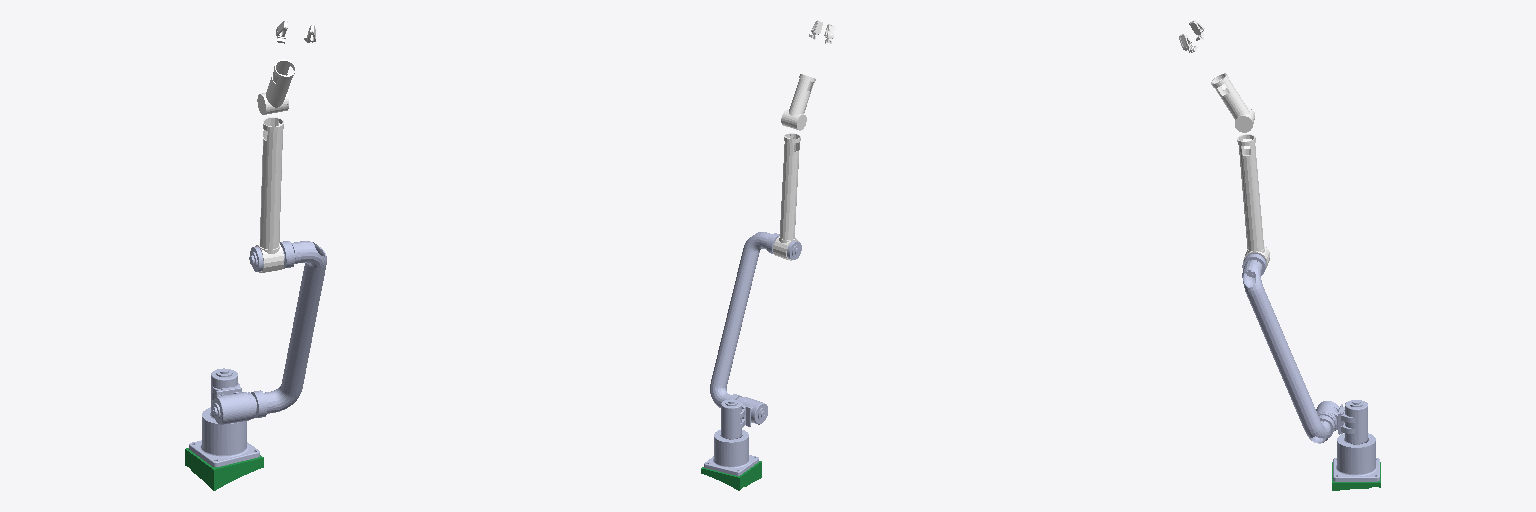
robot.urdf — satellite_5__starlink_sldasm9:
<?xml version='1.0' encoding='utf-8'?>
<robot name="satellite_5__starlink_sldasm9">
  <link name="base_link">
    <visual>
      <geometry>
        <mesh filename="../satellites/satellite_5/satellite.stl" scale="1 1 1" />
      </geometry>
      <material name="satellite_body_color">
        <color rgba="0.65 0.72 0.8 1" />
      </material>
    </visual>
    <collision>
      <geometry>
        <mesh filename="../satellites/satellite_5/satellite.stl" scale="1 1 1" />
      </geometry>
    </collision>
  </link>
  <link name="satellite_5_mount" />
  <joint name="satellite_mount_fixed" type="fixed">
    <parent link="base_link" />
    <child link="satellite_5_mount" />
    <origin xyz="-0.38 -0.12 1.1863715513837443" rpy="0.0 0.0 0.0" />
  </joint>
  <link name="concept_mount_pad">
    <visual>
      <geometry>
        <mesh filename="../satellites/satellite_5/body_top_saddle.stl" />
      </geometry>
      <material name="saddle_green">
        <color rgba=".2 .65 .35 1" />
      </material>
    </visual>
    <collision>
      <geometry>
        <mesh filename="../satellites/satellite_5/body_top_saddle.stl" />
      </geometry>
    </collision>
  </link>
  <joint name="pad_fixed" type="fixed">
    <parent link="satellite_5_mount" />
    <child link="concept_mount_pad" />
    <origin xyz="0 0 0" rpy="0 0 0" />
  </joint>
  <joint name="arm_adapter_fixed" type="fixed">
    <parent link="satellite_5_mount" />
    <child link="starlink_space_manipulator_base_link" />
    <origin xyz="0.009087204933166504 0.008519247174263 0.15000000141561035" rpy="-1.5707963267948966 0 0" />
  </joint>
  <link name="starlink_space_manipulator_base_link">
    <inertial>
      <origin xyz="-0.00908719924946466 0.0225428225681148 -0.00851924929637313" rpy="0 0 0" />
      <mass value="8.66024015898073" />
      <inertia ixx="0.0960303512697639" ixy="1.65511904636803E-18" ixz="6.22039820639877E-19" iyy="0.103454922260914" iyz="-9.68471289978311E-19" izz="0.0960303512697639" />
    </inertial>
    <visual>
      <origin xyz="0 0 0" rpy="0 0 0" />
      <geometry>
        <mesh filename="../arms/starlink_sldasm9/meshes/starlink_space_manipulator_base_link.STL" />
      </geometry>
      <material name="">
        <color rgba="0.792156862745098 0.819607843137255 0.933333333333333 1" />
      </material>
    </visual>
    <collision>
      <origin xyz="0 0 0" rpy="0 0 0" />
      <geometry>
        <mesh filename="../arms/starlink_sldasm9/meshes/starlink_space_manipulator_base_link.STL" />
      </geometry>
    </collision>
  </link>
  <link name="starlink_space_manipulator_Shoulder_link_1">
    <inertial>
      <origin xyz="-0.000399471745595769 -0.100006574194712 -0.17423940484461" rpy="0 0 0" />
      <mass value="5.16309216784981" />
      <inertia ixx="0.0524543852135592" ixy="0.00348154867667969" ixz="6.96526910910627E-05" iyy="0.0306595326318824" iyz="-0.00056674368052247" izz="0.0439979075615329" />
    </inertial>
    <visual>
      <origin xyz="0 0 0" rpy="0 0 0" />
      <geometry>
        <mesh filename="../arms/starlink_sldasm9/meshes/starlink_space_manipulator_Shoulder_link_1.STL" />
      </geometry>
      <material name="">
        <color rgba="0.792156862745098 0.819607843137255 0.933333333333333 1" />
      </material>
    </visual>
    <collision>
      <origin xyz="0 0 0" rpy="0 0 0" />
      <geometry>
        <mesh filename="../arms/starlink_sldasm9/meshes/starlink_space_manipulator_Shoulder_link_1.STL" />
      </geometry>
    </collision>
  </link>
  <joint name="starlink_space_manipulator_Shoulder_link_1_yaw" type="revolute">
    <origin xyz="-0.0090872 -0.065 -0.0085192" rpy="1.5708 -0.15574 3.1416" />
    <parent link="starlink_space_manipulator_base_link" />
    <child link="starlink_space_manipulator_Shoulder_link_1" />
    <axis xyz="0 0 -1" />
    <limit lower="-3.14" upper="3.14" effort="0" velocity="0" />
  </joint>
  <link name="starlink_space_manipulator_Upper_arm_Link_1">
    <inertial>
      <origin xyz="0.402106341472203 -0.696465272634528 -0.170177523085579" rpy="0 0 0" />
      <mass value="5.05309869040685" />
      <inertia ixx="0.388719013133801" ixy="0.210155896498943" ixz="9.30829370680679E-08" iyy="0.146049057575642" iyz="1.71830458004218E-07" izz="0.500677708275447" />
    </inertial>
    <visual>
      <origin xyz="0 0 0" rpy="0 0 0" />
      <geometry>
        <mesh filename="../arms/starlink_sldasm9/meshes/starlink_space_manipulator_Upper_arm_Link_1.STL" />
      </geometry>
      <material name="">
        <color rgba="0.792156862745098 0.819607843137255 0.933333333333333 1" />
      </material>
    </visual>
    <collision>
      <origin xyz="0 0 0" rpy="0 0 0" />
      <geometry>
        <mesh filename="../arms/starlink_sldasm9/meshes/starlink_space_manipulator_Upper_arm_Link_1.STL" />
      </geometry>
    </collision>
  </link>
  <joint name="starlink_space_manipulator_Upper_arm_Link_1_roll" type="revolute">
    <origin xyz="0 -0.2 -0.18" rpy="1.5708 0.90646 1.5708" />
    <parent link="starlink_space_manipulator_Shoulder_link_1" />
    <child link="starlink_space_manipulator_Upper_arm_Link_1" />
    <axis xyz="0 0 -1" />
    <limit lower="-2" upper="1.5" effort="0" velocity="0" />
  </joint>
  <link name="starlink_space_manipulator_Mid_arm_Link_1">
    <inertial>
      <origin xyz="-0.000406052776441013 0.317722269561105 0.0155331755135703" rpy="0 0 0" />
      <mass value="1.57635531881168" />
      <inertia ixx="0.133610363618846" ixy="5.33750993405138E-05" ixz="-3.60473795202962E-09" iyy="0.00502119434334708" iyz="-2.514275749911E-05" izz="0.134586018527477" />
    </inertial>
    <visual>
      <origin xyz="0 0 0" rpy="0 0 0" />
      <geometry>
        <mesh filename="../arms/starlink_sldasm9/meshes/starlink_space_manipulator_Mid_arm_Link_1.STL" />
      </geometry>
      <material name="">
        <color rgba="1 1 1 1" />
      </material>
    </visual>
    <collision>
      <origin xyz="0 0 0" rpy="0 0 0" />
      <geometry>
        <mesh filename="../arms/starlink_sldasm9/meshes/starlink_space_manipulator_Mid_arm_Link_1.STL" />
      </geometry>
    </collision>
  </link>
  <joint name="starlink_space_manipulator_Mid_arm_Link_1_roll" type="revolute">
    <origin xyz="0.599999999999673 -1.03923048454122 0" rpy="-3.14159265358979 0 0.828250280535091" />
    <parent link="starlink_space_manipulator_Upper_arm_Link_1" />
    <child link="starlink_space_manipulator_Mid_arm_Link_1" />
    <axis xyz="0 0 -1" />
    <limit lower="-3.14" upper="3.14" effort="0" velocity="0" />
  </joint>
  <link name="starlink_space_manipulator_Upper_wrist_Link_1">
    <inertial>
      <origin xyz="-0.000400003664721815 -0.201565878030355 -0.00216705855311664" rpy="0 0 0" />
      <mass value="0.994770641034713" />
      <inertia ixx="0.00165409639029414" ixy="-7.59103925411082E-06" ixz="-3.17403155320863E-06" iyy="0.00201437937768072" iyz="2.63246464091218E-06" izz="0.00159638838344539" />
    </inertial>
    <visual>
      <origin xyz="0 0 0" rpy="0 0 0" />
      <geometry>
        <mesh filename="../arms/starlink_sldasm9/meshes/starlink_space_manipulator_Upper_wrist_Link_1.STL" />
      </geometry>
      <material name="">
        <color rgba="0.792156862745098 0.819607843137255 0.933333333333333 1" />
      </material>
    </visual>
    <collision>
      <origin xyz="0 0 0" rpy="0 0 0" />
      <geometry>
        <mesh filename="../arms/starlink_sldasm9/meshes/starlink_space_manipulator_Upper_wrist_Link_1.STL" />
      </geometry>
    </collision>
  </link>
  <joint name="starlink_space_manipulator_Upper_wrist_Link_1_yaw" type="revolute">
    <origin xyz="-0.00050155183276912 0.686793643713439 0.0155010481432086" rpy="0 -0.0763876794035917 3.14159265358979" />
    <parent link="starlink_space_manipulator_Mid_arm_Link_1" />
    <child link="starlink_space_manipulator_Upper_wrist_Link_1" />
    <axis xyz="0 -1 0" />
    <limit lower="-3.14" upper="3.14" effort="0" velocity="0" />
  </joint>
  <link name="starlink_space_manipulator_Upper_wrist_Link_2">
    <inertial>
      <origin xyz="8.45304168883843E-08 0.0848318719623631 -0.00515657391755576" rpy="0 0 0" />
      <mass value="1.03716823037577" />
      <inertia ixx="0.0100970561498589" ixy="1.32295633551837E-09" ixz="-9.43675929999229E-09" iyy="0.00222325407426665" iyz="-2.08772874866187E-06" izz="0.0105840577017538" />
    </inertial>
    <visual>
      <origin xyz="0 0 0" rpy="0 0 0" />
      <geometry>
        <mesh filename="../arms/starlink_sldasm9/meshes/starlink_space_manipulator_Upper_wrist_Link_2.STL" />
      </geometry>
      <material name="">
        <color rgba="1 1 1 1" />
      </material>
    </visual>
    <collision>
      <origin xyz="0 0 0" rpy="0 0 0" />
      <geometry>
        <mesh filename="../arms/starlink_sldasm9/meshes/starlink_space_manipulator_Upper_wrist_Link_2.STL" />
      </geometry>
    </collision>
  </link>
  <joint name="starlink_space_manipulator_Upper_wrist_Link_2_roll" type="revolute">
    <origin xyz="0 -0.30020635628656 0" rpy="-0.0158640776811277 -0.0317448426184613 -2.67805461574742" />
    <parent link="starlink_space_manipulator_Upper_wrist_Link_1" />
    <child link="starlink_space_manipulator_Upper_wrist_Link_2" />
    <axis xyz="0 0 1" />
    <limit lower="-2.5" upper="1.8" effort="0" velocity="0" />
  </joint>
  <link name="starlink__space_manipulator_2F-Body_Link">
    <inertial>
      <origin xyz="0.000132893636818288 -0.122912145301831 0.000141178527731878" rpy="0 0 0" />
      <mass value="2.06098061435798" />
      <inertia ixx="0.00357820981002093" ixy="-9.7173781739015E-06" ixz="-0.000377950837415894" iyy="0.00540179107539635" iyz="3.57093943209629E-06" izz="0.0050632324449311" />
    </inertial>
    <visual>
      <origin xyz="0 0 0" rpy="0 0 0" />
      <geometry>
        <mesh filename="../arms/starlink_sldasm9/meshes/starlink__space_manipulator_2F-Body_Link.STL" />
      </geometry>
      <material name="">
        <color rgba="0.792156862745098 0.819607843137255 0.933333333333333 1" />
      </material>
    </visual>
    <collision>
      <origin xyz="0 0 0" rpy="0 0 0" />
      <geometry>
        <mesh filename="../arms/starlink_sldasm9/meshes/starlink__space_manipulator_2F-Body_Link.STL" />
      </geometry>
    </collision>
  </link>
  <joint name="starlink__space_manipulator_2F-Body_Link_yaw" type="revolute">
    <origin xyz="0 0.34845 -0.0053813" rpy="-3.1416 0.93592 0" />
    <parent link="starlink_space_manipulator_Upper_wrist_Link_2" />
    <child link="starlink__space_manipulator_2F-Body_Link" />
    <axis xyz="0 -1 0" />
    <limit lower="-3.14" upper="3.14" effort="0" velocity="0" />
  </joint>
  <link name="starlink_space_manipulator_Finger1_2_Link">
    <inertial>
      <origin xyz="-0.128379781160824 0.00213384929263816 0.20765530277947" rpy="0 0 0" />
      <mass value="0.164012557851557" />
      <inertia ixx="0.000137377814382494" ixy="5.75324125943043E-07" ixz="1.56204374379134E-05" iyy="0.000128174497717794" iyz="2.8915711708103E-06" izz="5.56877077151319E-05" />
    </inertial>
    <visual>
      <origin xyz="0 0 0" rpy="0 0 0" />
      <geometry>
        <mesh filename="../arms/starlink_sldasm9/meshes/starlink_space_manipulator_Finger1_2_Link.STL" />
      </geometry>
      <material name="">
        <color rgba="1 1 1 1" />
      </material>
    </visual>
    <collision>
      <origin xyz="0 0 0" rpy="0 0 0" />
      <geometry>
        <mesh filename="../arms/starlink_sldasm9/meshes/starlink_space_manipulator_Finger1_2_Link.STL" />
      </geometry>
    </collision>
  </link>
  <joint name="starlink_space_manipulator_Finger1_2_Link_roll" type="prismatic">
    <origin xyz="-0.2017 -0.10916 -0.04801" rpy="-1.5708 0.22747 -3.1416" />
    <parent link="starlink__space_manipulator_2F-Body_Link" />
    <child link="starlink_space_manipulator_Finger1_2_Link" />
    <axis xyz="-1 0 0" />
    <limit lower="0.0" upper="0.04" effort="20" velocity="0" />
  </joint>
  <link name="starlink_space_manipulator_Finger2_1_Link">
    <inertial>
      <origin xyz="-0.128379783275286 0.0021338497374519 0.207655316264438" rpy="0 0 0" />
      <mass value="0.164012525176243" />
      <inertia ixx="0.000137377758573247" ixy="5.75327227385201E-07" ixz="1.56204303396715E-05" iyy="0.00012817444752134" iyz="2.89153901545968E-06" izz="5.5687711839857E-05" />
    </inertial>
    <visual>
      <origin xyz="0 0 0" rpy="0 0 0" />
      <geometry>
        <mesh filename="../arms/starlink_sldasm9/meshes/starlink_space_manipulator_Finger2_1_Link.STL" />
      </geometry>
      <material name="">
        <color rgba="1 1 1 1" />
      </material>
    </visual>
    <collision>
      <origin xyz="0 0 0" rpy="0 0 0" />
      <geometry>
        <mesh filename="../arms/starlink_sldasm9/meshes/starlink_space_manipulator_Finger2_1_Link.STL" />
      </geometry>
    </collision>
  </link>
  <joint name="starlink_space_manipulator_Finger2_1_Link_roll" type="prismatic">
    <origin xyz="0.20865 -0.10916 0.049619" rpy="1.5708 -0.22747 0" />
    <parent link="starlink__space_manipulator_2F-Body_Link" />
    <child link="starlink_space_manipulator_Finger2_1_Link" />
    <axis xyz="-1 0 0" />
    <limit lower="0.0" upper="0.04" effort="20" velocity="0" />
  </joint>
</robot>

--- Render facts (derived) ---
Views: 3 orthographic renders of the robot side by side, from view 1: azimuth 30°, elevation 25°; view 2: azimuth 150°, elevation 25°; view 3: azimuth 270°, elevation 25°.
Model satellite_5__starlink_sldasm9 with 12 links and 11 joints (6 revolute, 2 prismatic, 3 fixed), rooted at base_link, posed all joints at 0.
Links seen in each view (by area): view 1: starlink_space_manipulator_Upper_arm_Link_1, starlink_space_manipulator_Mid_arm_Link_1, starlink_space_manipulator_base_link, starlink_space_manipulator_Shoulder_link_1, concept_mount_pad, starlink_space_manipulator_Upper_wrist_Link_2; view 2: starlink_space_manipulator_Upper_arm_Link_1, starlink_space_manipulator_Mid_arm_Link_1, starlink_space_manipulator_base_link, starlink_space_manipulator_Shoulder_link_1, starlink_space_manipulator_Upper_wrist_Link_2, concept_mount_pad; view 3: starlink_space_manipulator_Upper_arm_Link_1, starlink_space_manipulator_Mid_arm_Link_1, starlink_space_manipulator_base_link, starlink_space_manipulator_Shoulder_link_1, starlink_space_manipulator_Upper_wrist_Link_2.
Boxes of the visible links, <box> form: starlink_space_manipulator_Upper_arm_Link_1: <box>213,241,326,413</box>; starlink_space_manipulator_Mid_arm_Link_1: <box>255,117,283,272</box>; starlink_space_manipulator_base_link: <box>189,407,259,466</box>; starlink_space_manipulator_Shoulder_link_1: <box>211,368,266,424</box>; concept_mount_pad: <box>185,448,263,490</box>; starlink_space_manipulator_Upper_wrist_Link_2: <box>257,59,295,114</box>; starlink_space_manipulator_Upper_arm_Link_1: <box>710,232,801,415</box>; starlink_space_manipulator_Mid_arm_Link_1: <box>773,133,800,260</box>; starlink_space_manipulator_base_link: <box>704,430,758,475</box>; starlink_space_manipulator_Shoulder_link_1: <box>721,394,767,439</box>; starlink_space_manipulator_Upper_wrist_Link_2: <box>781,74,815,130</box>; concept_mount_pad: <box>701,461,761,490</box>; starlink_space_manipulator_Upper_arm_Link_1: <box>1242,247,1330,443</box>; starlink_space_manipulator_Mid_arm_Link_1: <box>1237,134,1269,269</box>; starlink_space_manipulator_base_link: <box>1333,433,1379,481</box>; starlink_space_manipulator_Shoulder_link_1: <box>1316,400,1367,444</box>; starlink_space_manipulator_Upper_wrist_Link_2: <box>1211,73,1254,132</box>.
Bounding box of the posed robot: 0.5961 × 1.31 × 3.25 m (x, y, z).
8 mesh visuals loaded from 11 distinct referenced files (8 binary STL); not drawn: 3 (reference not matched to a file when rendering).
